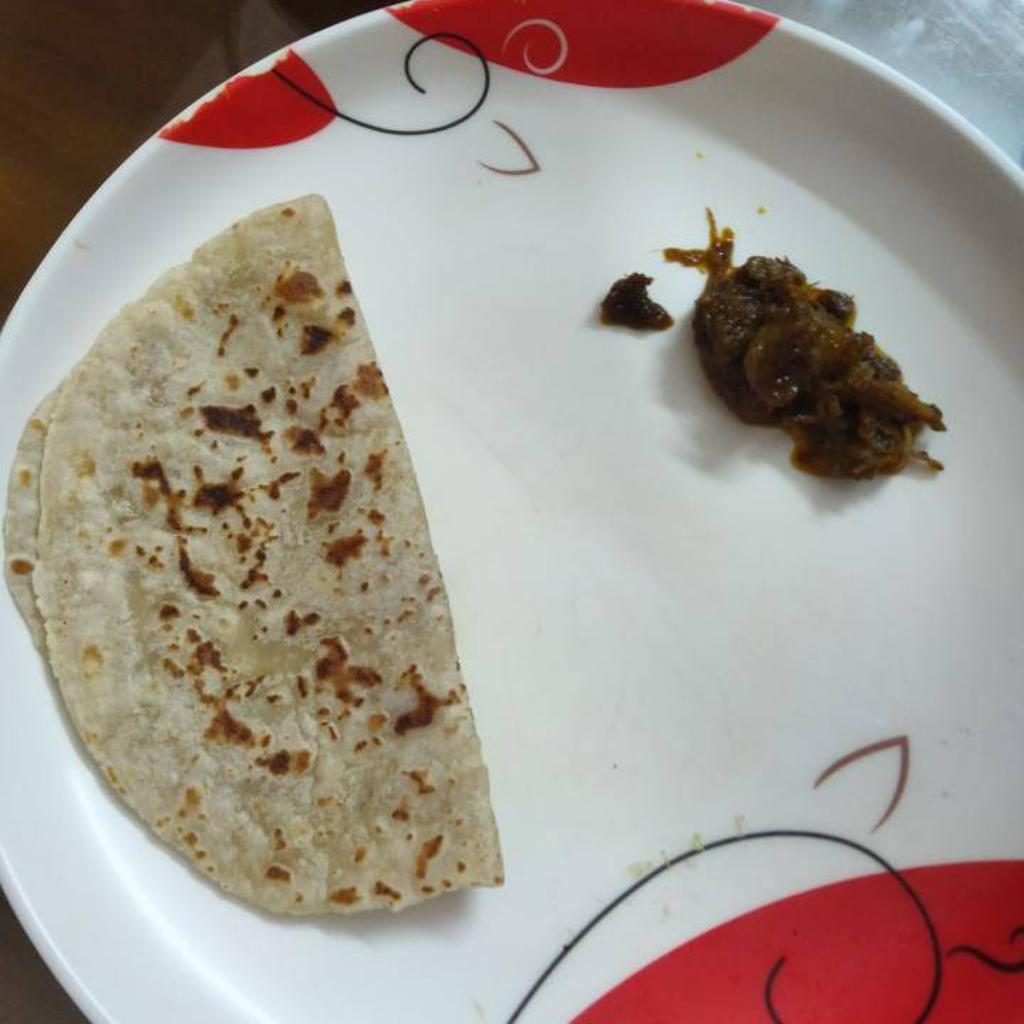achar: (688, 247, 946, 483)
ruti: (9, 181, 509, 914)
